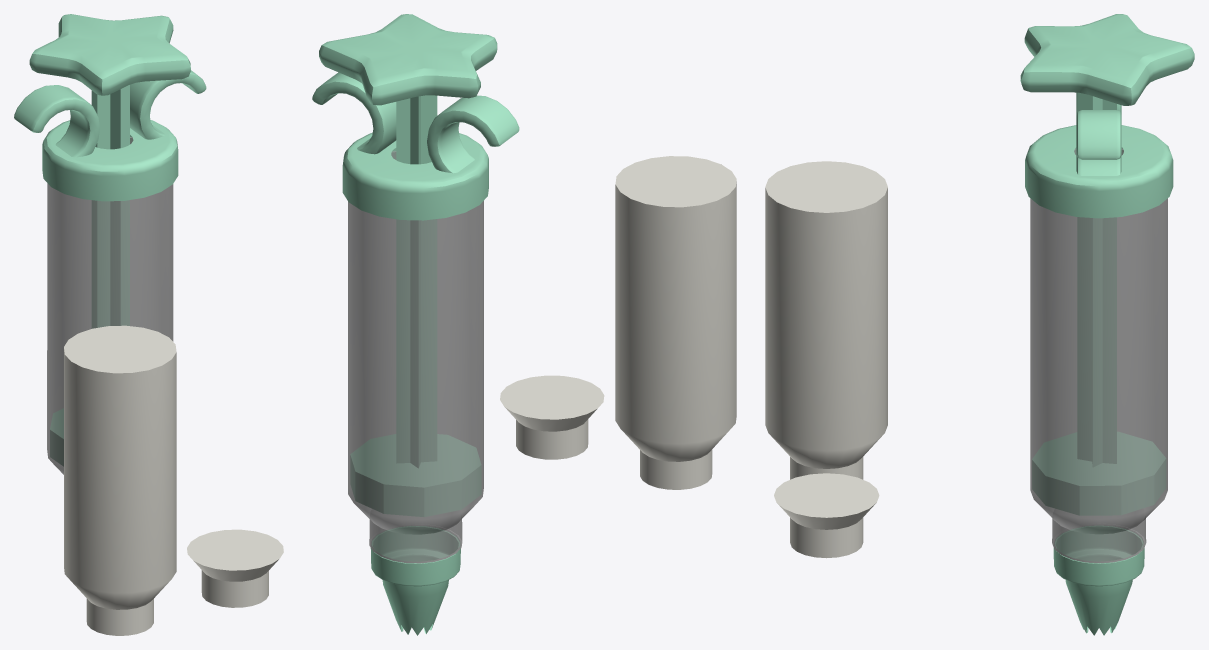
Rendered from injection.fbx.
The picture shows the model from 3 angles, left to right: view 1: azimuth 30°, elevation 25°; view 2: azimuth 150°, elevation 25°; view 3: azimuth 270°, elevation 25°; orthographic projection. The views are drawn at different scales.
Visible parts, largest first — view 1: injection, Cream_high, Push, Cream_row; view 2: injection, Cream_high, Push, Cream_row; view 3: injection, Cream_high, Push, Cream_row.
Part boxes in pixels (left/top/right/bottom): injection: left=14, top=70, right=206, bottom=474; Cream_high: left=64, top=325, right=176, bottom=635; Push: left=29, top=14, right=190, bottom=466; Cream_row: left=187, top=529, right=283, bottom=607; injection: left=312, top=72, right=519, bottom=635; Cream_high: left=615, top=156, right=736, bottom=489; Push: left=319, top=14, right=497, bottom=516; Cream_row: left=500, top=375, right=604, bottom=459; injection: left=1025, top=92, right=1173, bottom=635; Cream_high: left=765, top=161, right=887, bottom=479; Push: left=1020, top=14, right=1194, bottom=515; Cream_row: left=774, top=473, right=879, bottom=558.
Size of the model in its own units: 6.97 by 14.23 by 9.47.
